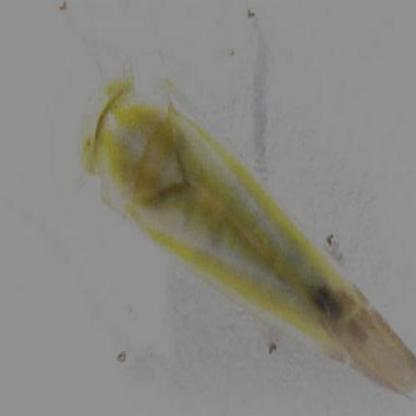green-leafhopper: (75, 69, 414, 401)
